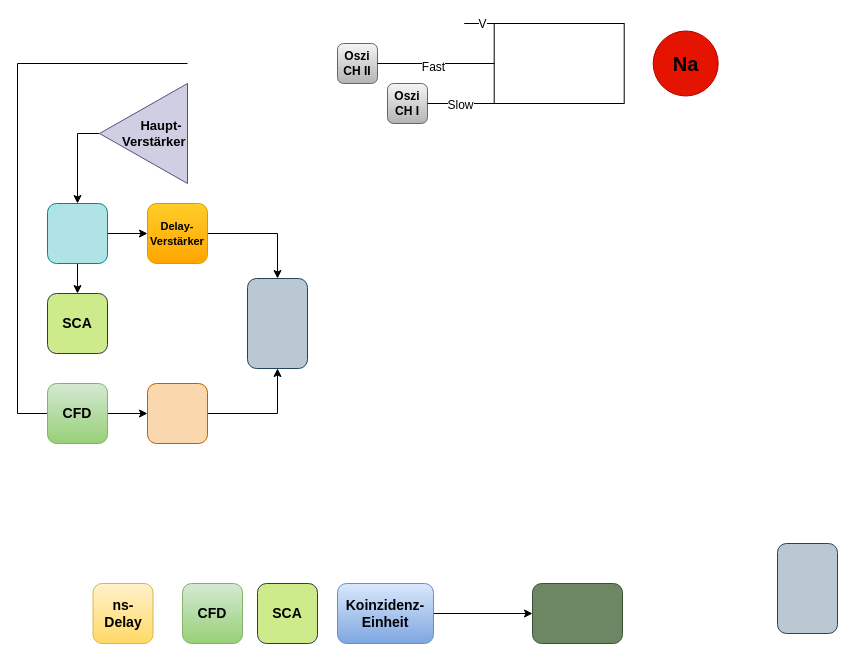
Some shapes in this 855 by 661 pixel diagram are drawn without their labels. The centre of each missing label's shape, as x and y in pixels:
"Detektor" goes at (558,63).
"Eingang MCA Gate" goes at (277,323).
"Gate MCA Eingang" goes at (807,588).
"GDG" goes at (177,413).
"Splitter" goes at (77,233).
"Start TAC Stop" goes at (577,613).
